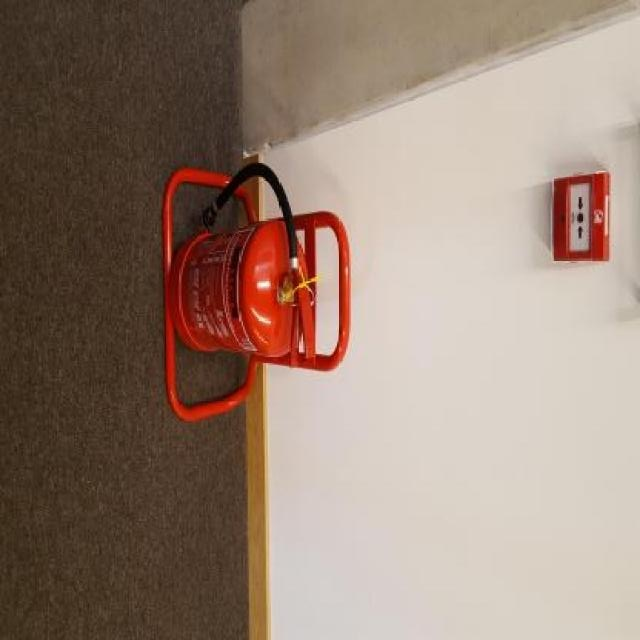fire extinguisher: (170, 160, 316, 368)
